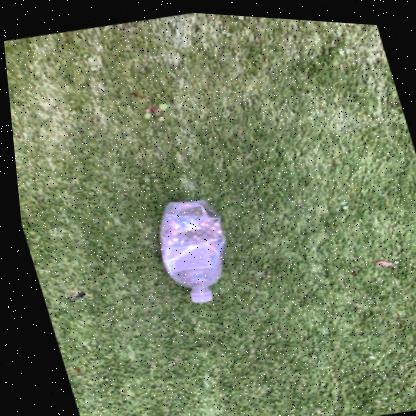Plastic: (153, 196, 219, 299)
